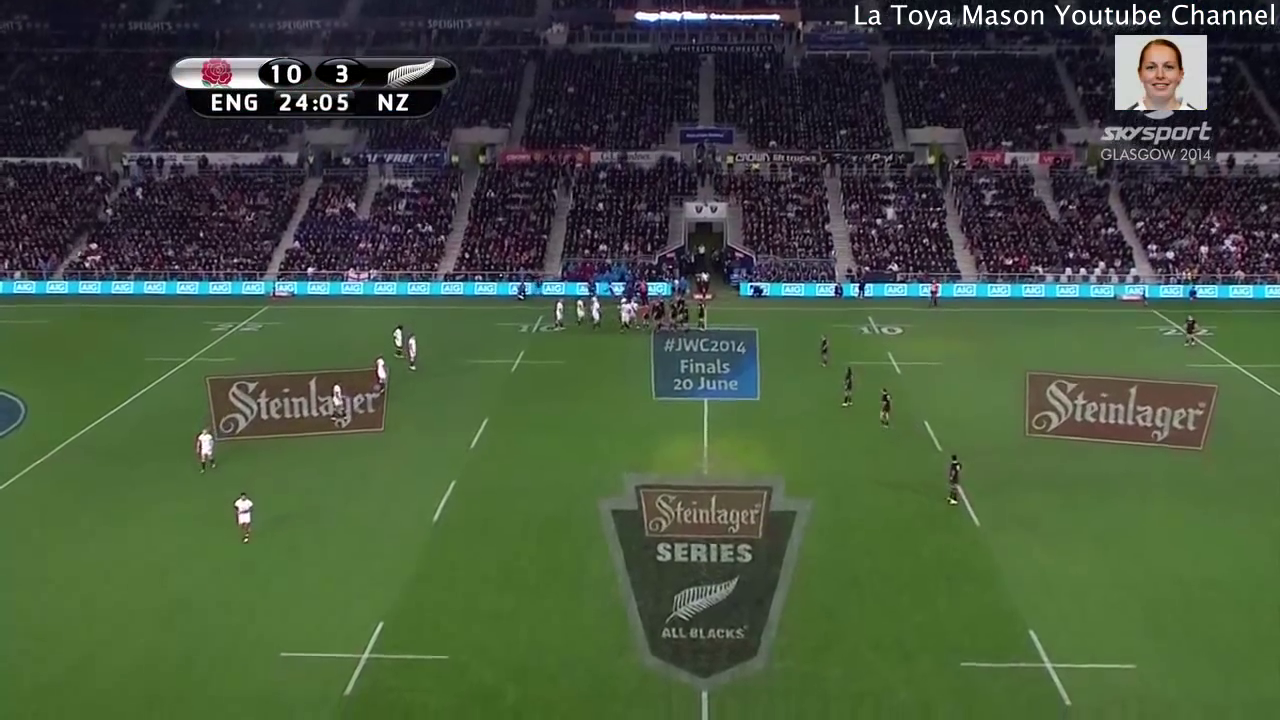10_metre: (952, 622, 1146, 711), (274, 616, 459, 703), (840, 348, 948, 381), (458, 345, 571, 376), (488, 309, 586, 337), (827, 314, 928, 339)
player: (226, 486, 255, 550), (193, 424, 221, 481), (835, 360, 863, 417), (328, 375, 354, 431), (941, 450, 964, 512), (1176, 305, 1201, 353), (369, 350, 393, 398), (875, 382, 897, 434), (386, 315, 408, 363), (815, 328, 835, 372), (403, 330, 421, 377), (651, 296, 670, 340), (664, 294, 682, 334), (588, 296, 604, 333), (696, 298, 711, 336), (676, 292, 690, 331), (571, 294, 587, 327), (553, 295, 566, 331), (616, 297, 630, 330), (629, 297, 640, 333)
